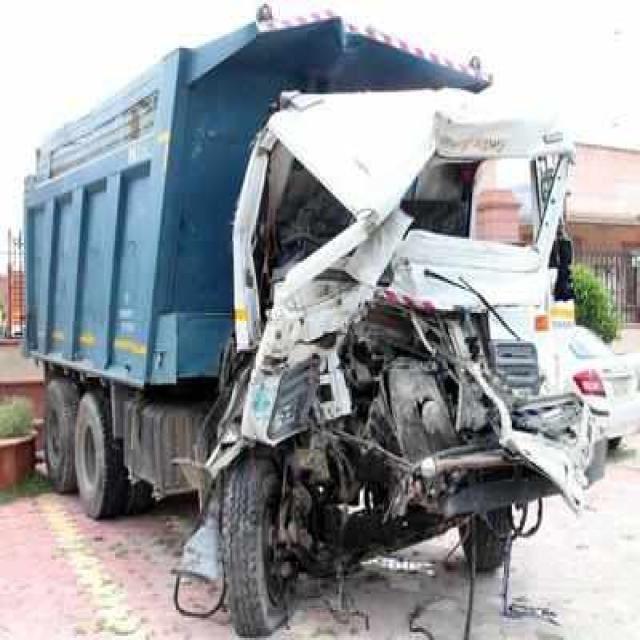accident: (26, 13, 614, 636)
